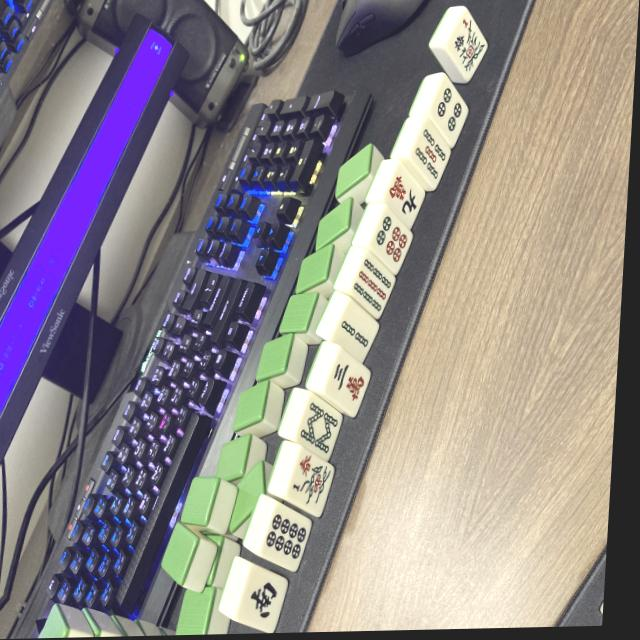f1: (443, 14, 495, 82)
ff1: (281, 446, 341, 520)
m3: (316, 347, 375, 419)
m9: (376, 165, 433, 231)
s2: (326, 300, 386, 365)
s5: (407, 122, 461, 188)
s8: (292, 393, 349, 463)
s9: (343, 250, 404, 319)
south: (231, 560, 293, 632)
t4: (424, 78, 476, 143)
t6: (363, 206, 422, 275)
t8: (254, 499, 319, 574)
